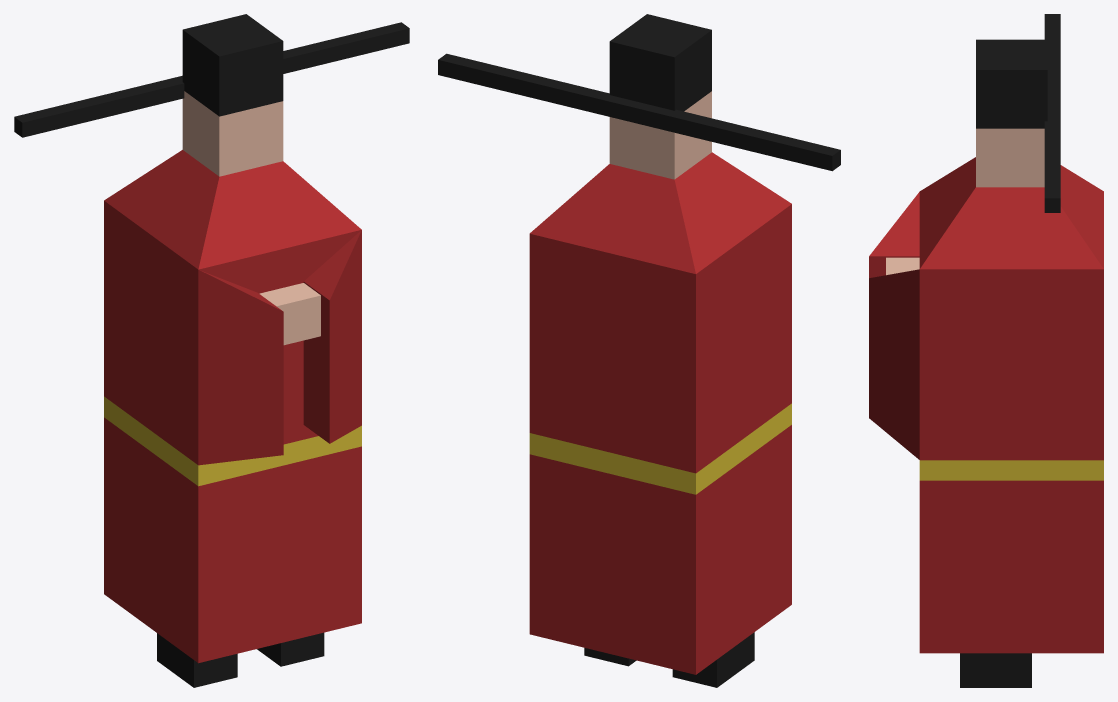
Rendered from Empl_02.fbx.
The picture shows the model from 3 angles, left to right: view 1: azimuth 30°, elevation 25°; view 2: azimuth 150°, elevation 25°; view 3: azimuth 270°, elevation 25°; orthographic projection. The views are drawn at different scales.
Parts seen in each view (by area): view 1: Empl_02, Empl_02_Head, Empl_02_LegRight, Empl_02_LegLeft; view 2: Empl_02, Empl_02_Head, Empl_02_LegRight; view 3: Empl_02, Empl_02_Head, Empl_02_LegLeft.
Boxes of the visible parts, x1,y1,x2,y2 form: Empl_02: (104,150,361,663); Empl_02_Head: (14,14,409,176); Empl_02_LegRight: (157,633,237,687); Empl_02_LegLeft: (257,632,324,666); Empl_02: (529,152,791,674); Empl_02_Head: (438,14,840,179); Empl_02_LegRight: (672,632,754,687); Empl_02: (869,157,1103,653); Empl_02_Head: (976,14,1060,212); Empl_02_LegLeft: (960,653,1031,687).
Bounding box in the file's own units: 1.31 × 1.99 × 0.7041.
